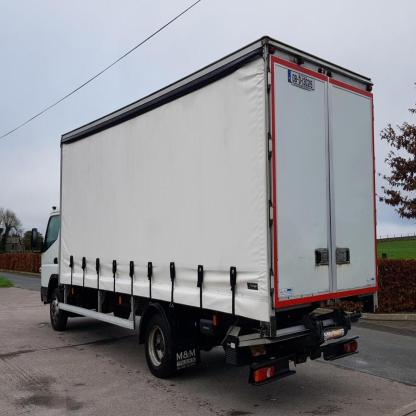truck: (35, 37, 378, 384)
